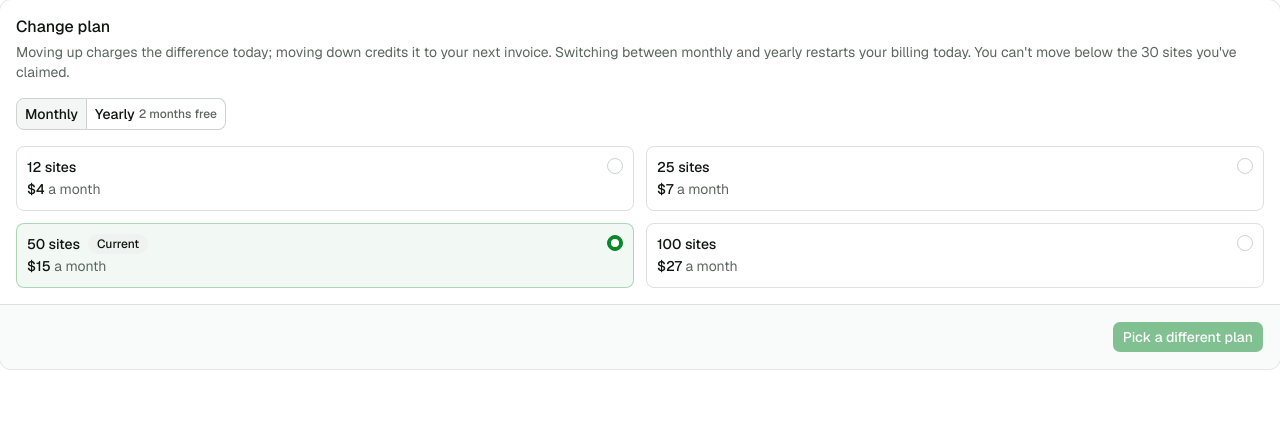
Test: PlanChooser, a live plan › won't move below the sites already claimed
Click the radio button in the row of "25". click: [1245, 166]
box: [1237,158,1253,174]
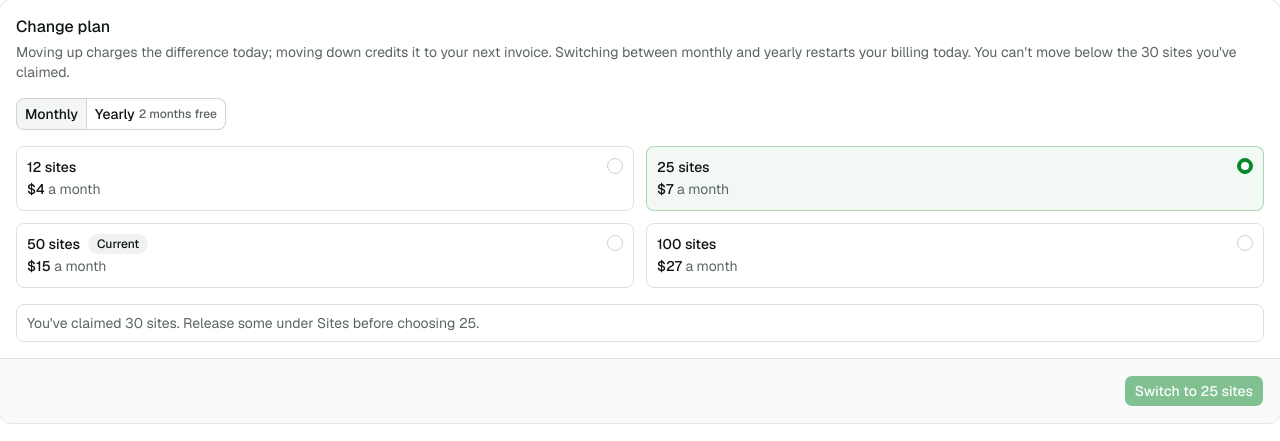
Expected: the button "Switch to 25 sites" is disabled, [1124,375,1264,407]
Expected: the text "You've claimed 30 sites. Release some under Sites before choosing 25" is shown, [27,314,479,332]
